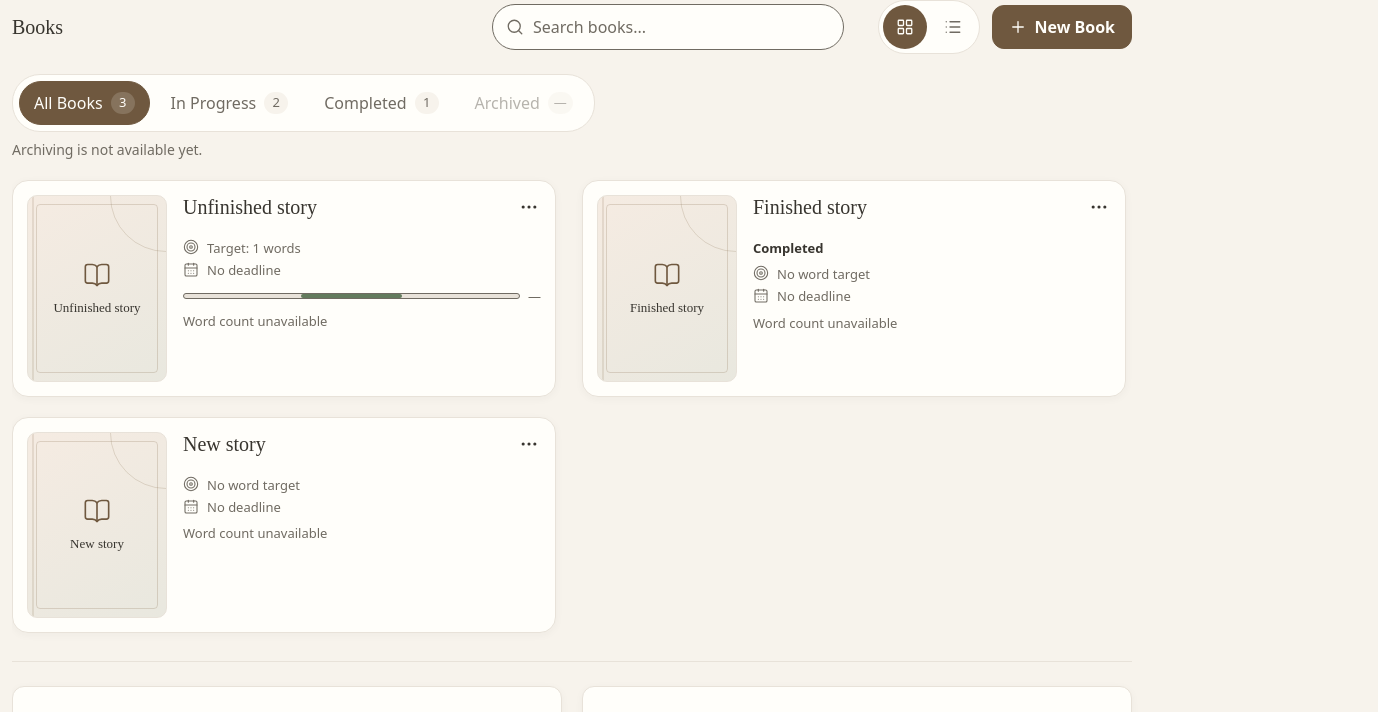
Test case: filters committed completion metadata without writing or reloading books
Expected: the button with aria-label "Archived ? (count unavailable)" is disabled, top-left (460, 81), bottom-right (588, 125)
Click the button with aria-label "Completed 1 book" at (381, 103), box top-left (309, 81), bottom-right (454, 125)
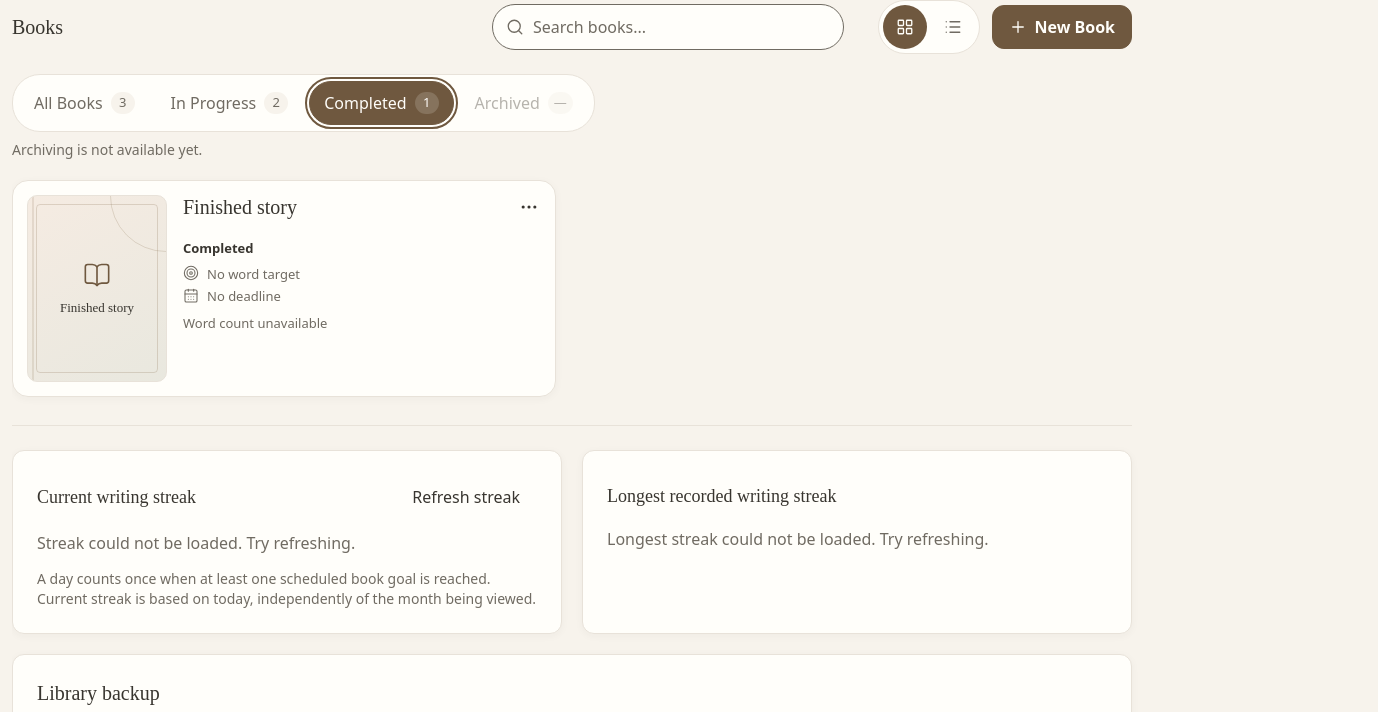
Expected: the heading "Finished story" is shown, top-left (183, 196), bottom-right (297, 218)
Expected: the text "Unfinished story" is gone
Click the button with aria-label "In Progress 2 books" at (229, 103), box top-left (156, 81), bottom-right (303, 125)
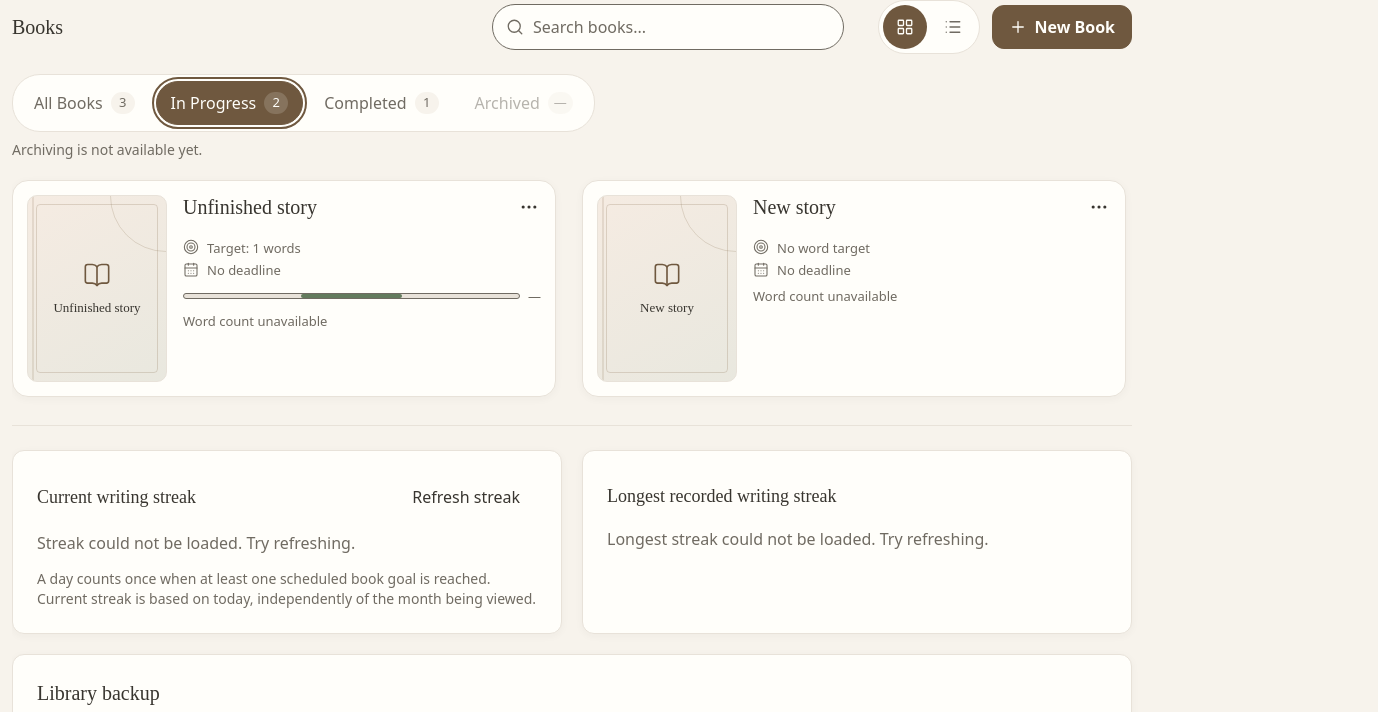
Expected: the heading "New story" is shown, top-left (753, 196), bottom-right (836, 218)
Click the button with aria-label "All Books 3 books" at (84, 103), box top-left (19, 81), bottom-right (150, 125)
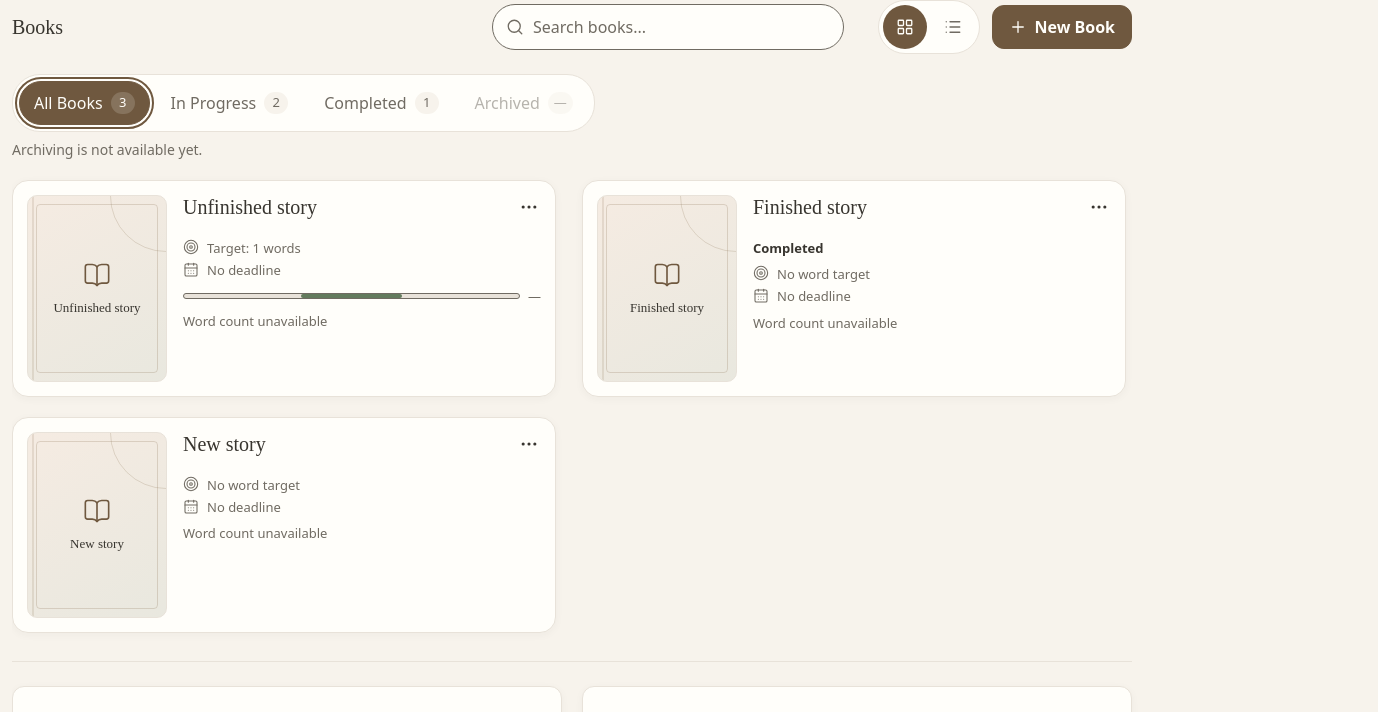
Expected: the number of list items is 3, top-left (12, 180), bottom-right (556, 397); top-left (582, 180), bottom-right (1126, 397); top-left (12, 417), bottom-right (556, 633)
